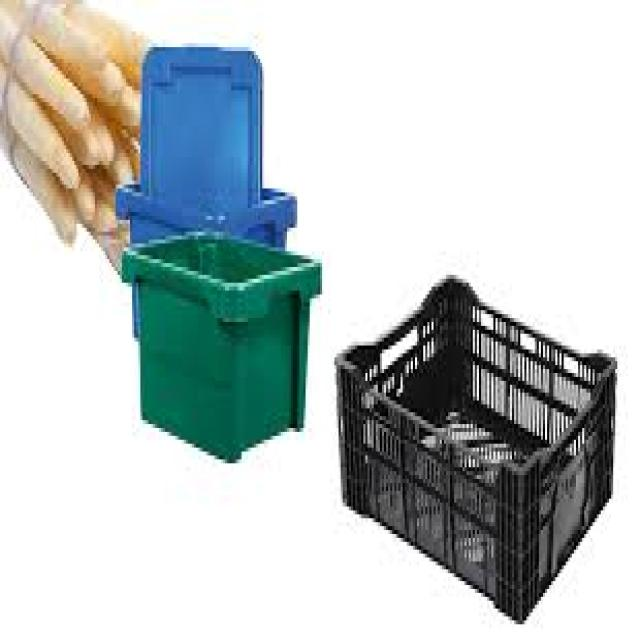basket: (97, 31, 342, 468)
